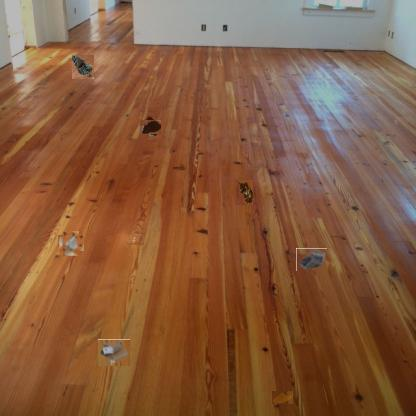dirty: (98, 339, 130, 366), (296, 248, 327, 271), (72, 55, 94, 79), (235, 179, 254, 205), (61, 233, 82, 254)
liquid: (141, 118, 159, 136), (271, 390, 293, 404)
